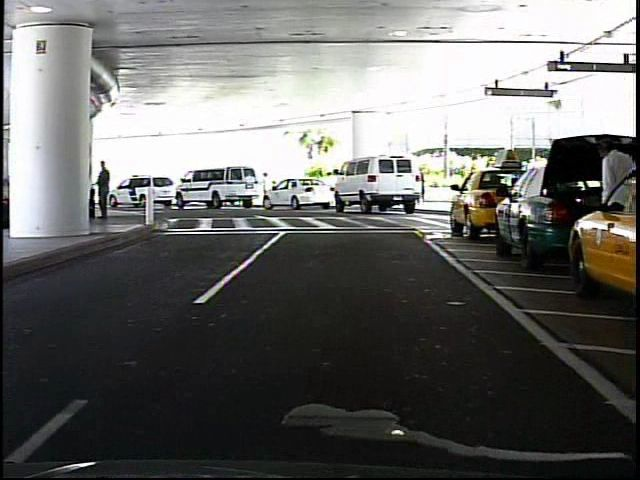person: (589, 132, 633, 282), (99, 157, 116, 224), (259, 170, 276, 206), (425, 170, 426, 205)
